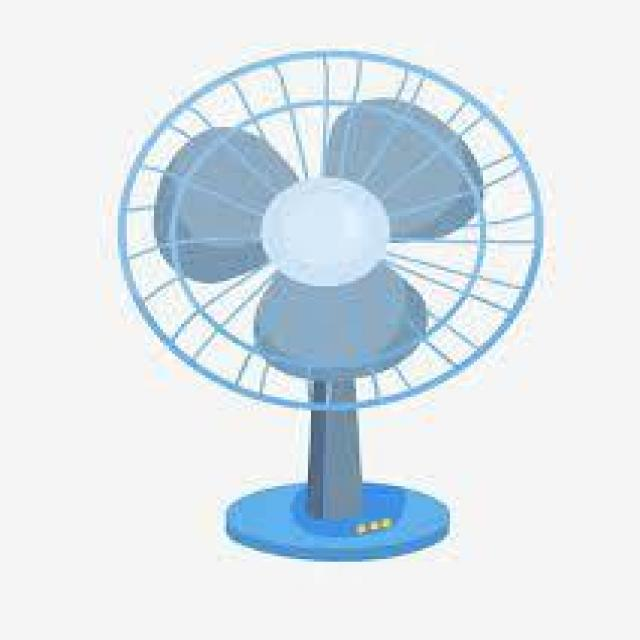fan: (105, 48, 558, 564)
